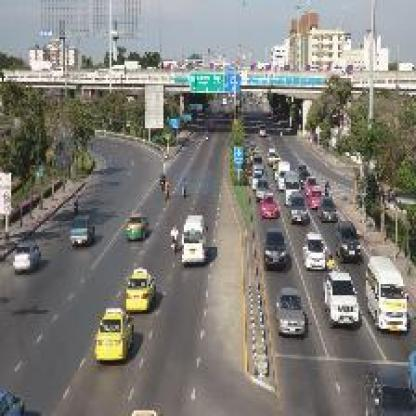other: (93, 266, 162, 358)
